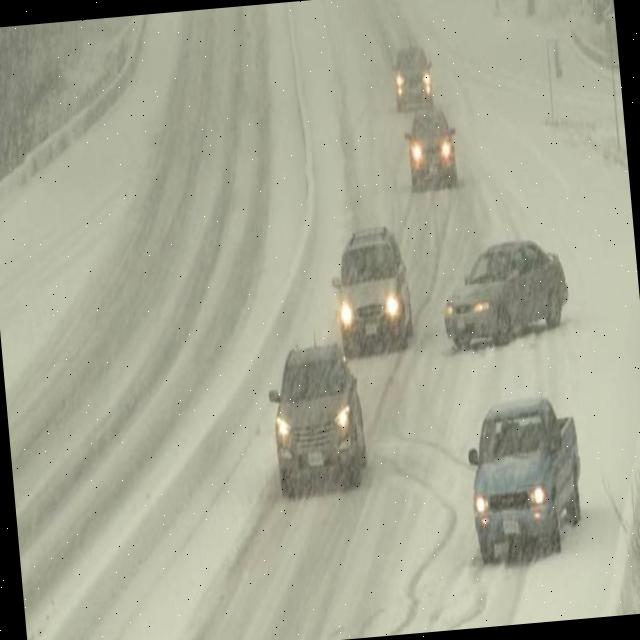car: (461, 392, 586, 570), (262, 334, 374, 501), (438, 235, 574, 352), (328, 222, 417, 358), (402, 102, 461, 198), (390, 37, 436, 110)
